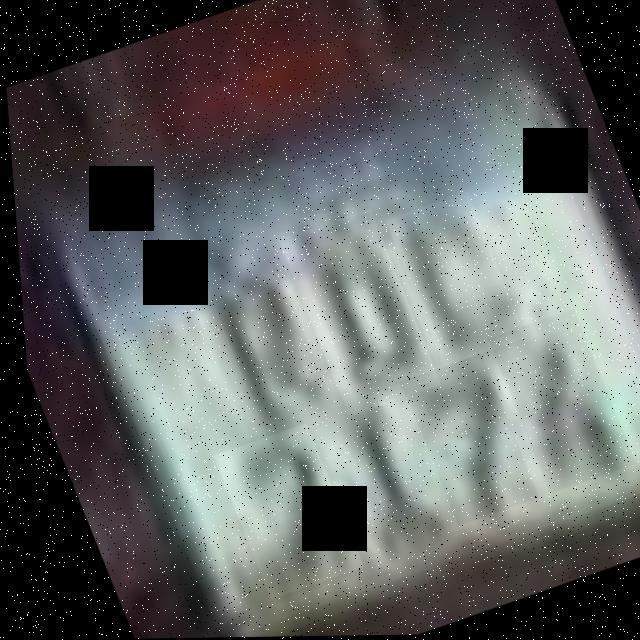2: (205, 423, 357, 601)
4: (481, 310, 630, 496)
7: (393, 354, 533, 528)
J: (381, 192, 523, 369)
P: (182, 258, 332, 447)
U: (273, 208, 439, 418)
